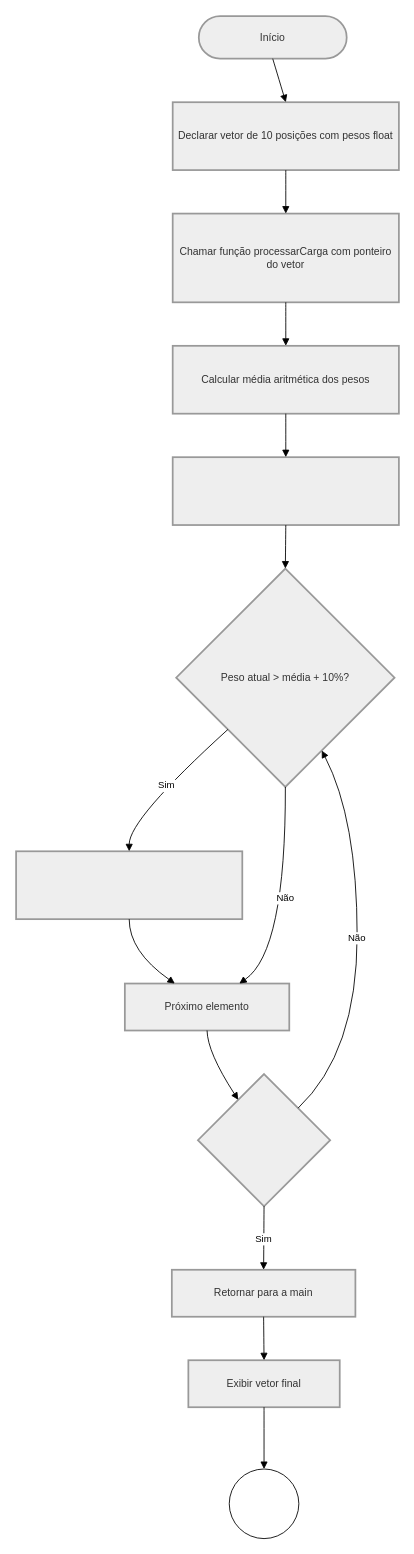
Image size: 414x1554. Some labels were removed from this diagram. The shapes that lost their labels are listed below. From the top down, each one's centre as x and y in pixels, then its label:
At pixel 285 490: "Iniciar loop com aritmética de ponteiros".
At pixel 129 885: "Aplicar correção de -5% no endereço de memória".
At pixel 264 1140: "Fim do vetor?".
At pixel 263 1503: "FIm".
